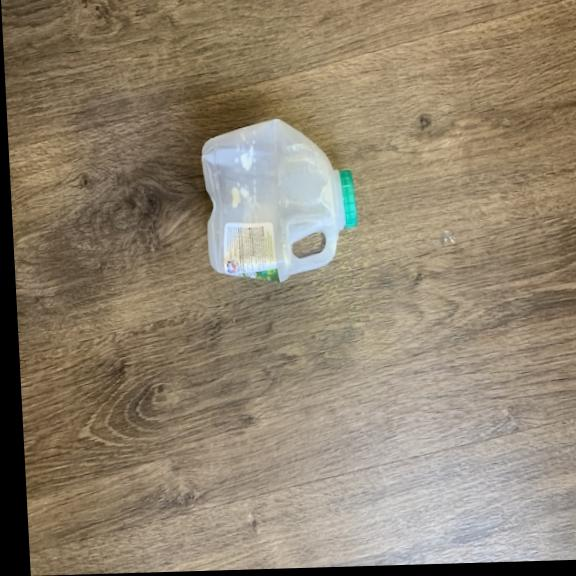Plastik: (197, 112, 360, 286)
